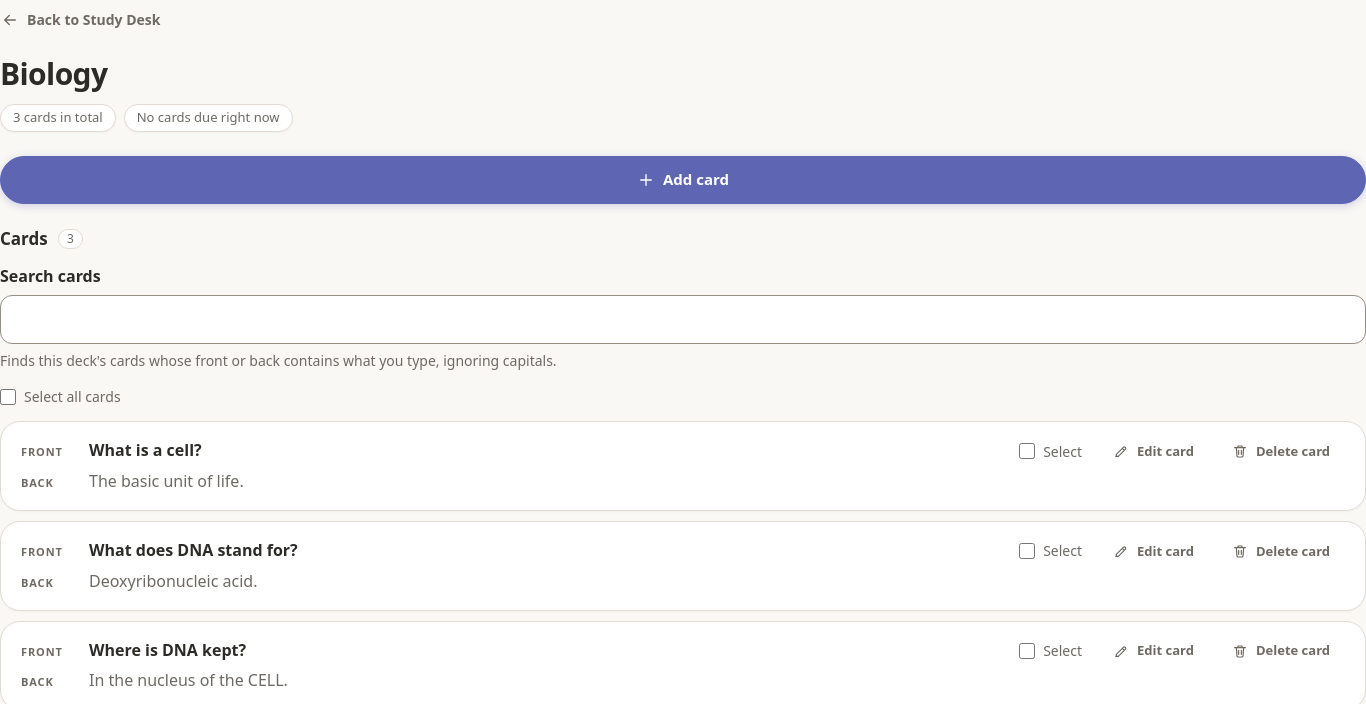
selecting cards › selects all the matching cards only, and says when the search hides some
The image size is (1366, 704).
Type "cell" into the search field labelled "Search cards" at (683, 320), box [0, 295, 1365, 344]
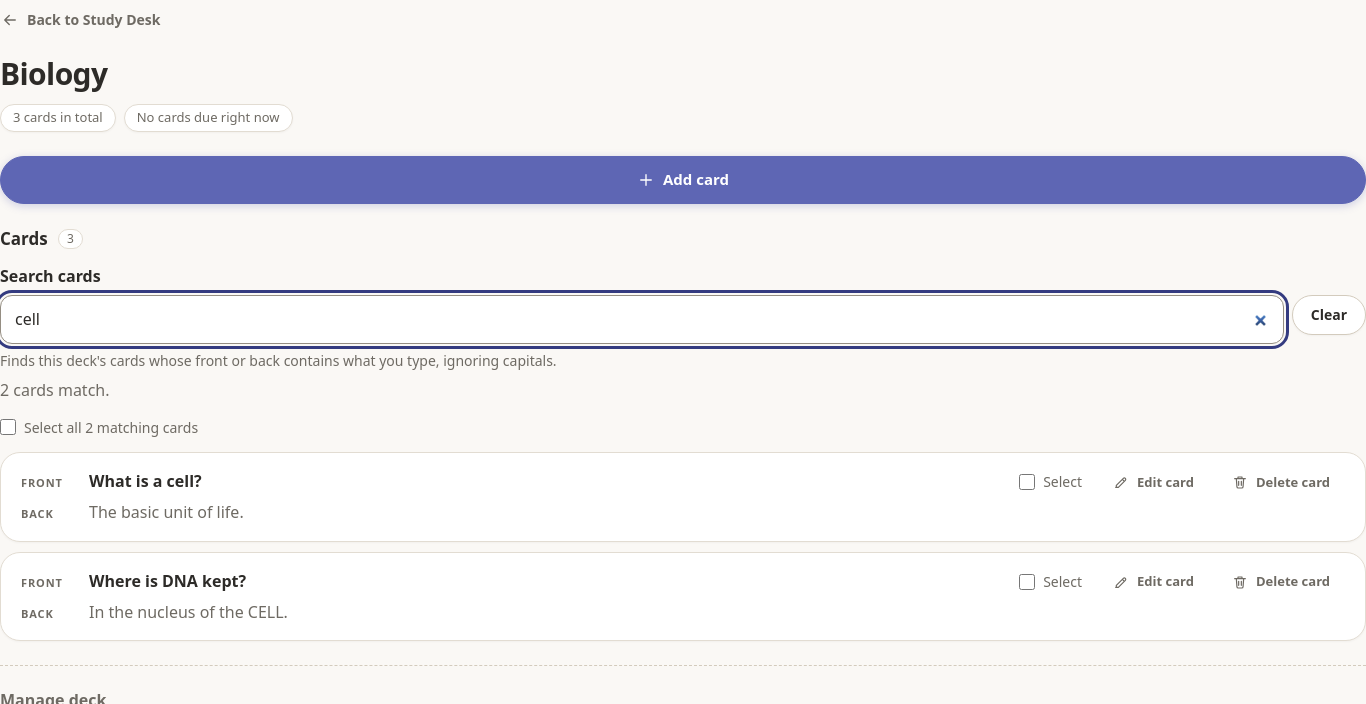
Click the checkbox labelled "Select all 2 matching cards" at (8, 427), box [0, 419, 16, 435]
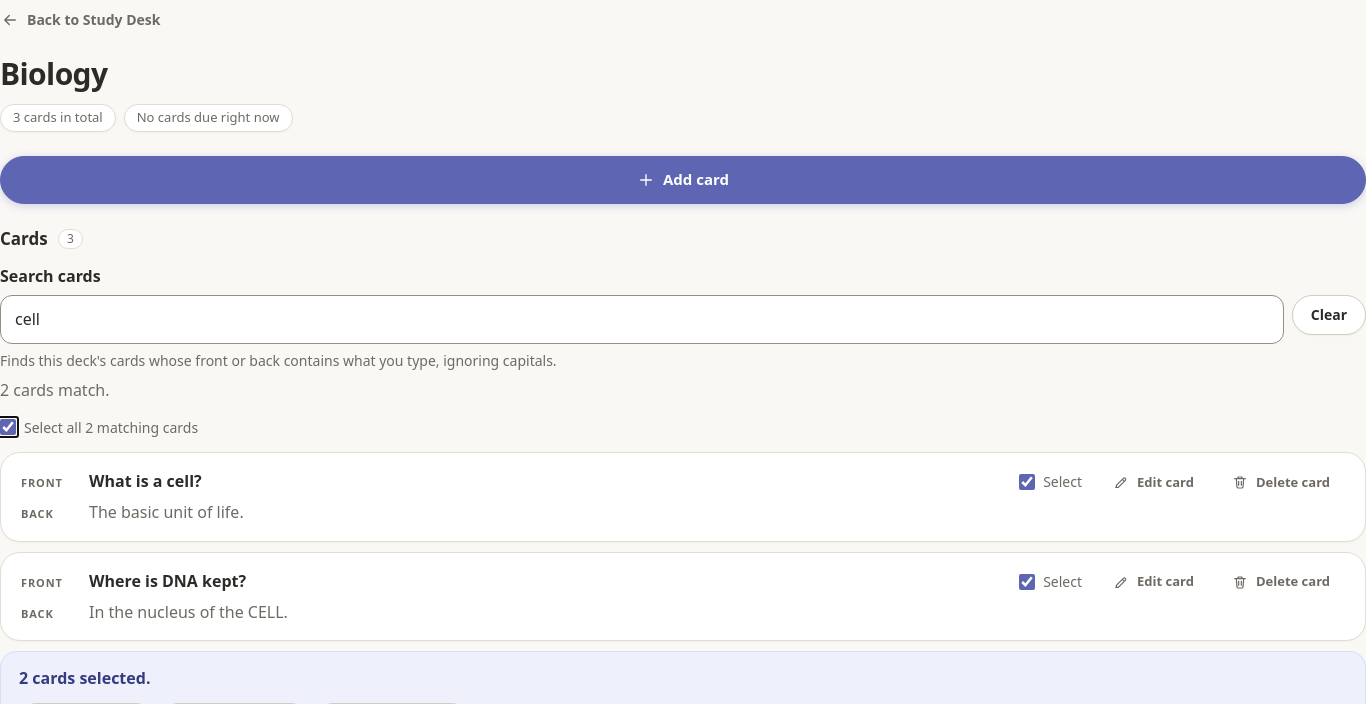
Expected: the text "2 cards selected." is shown, [19, 667, 150, 689]
Clear the search field labelled "Search cards" at (642, 320), box [0, 295, 1284, 344]
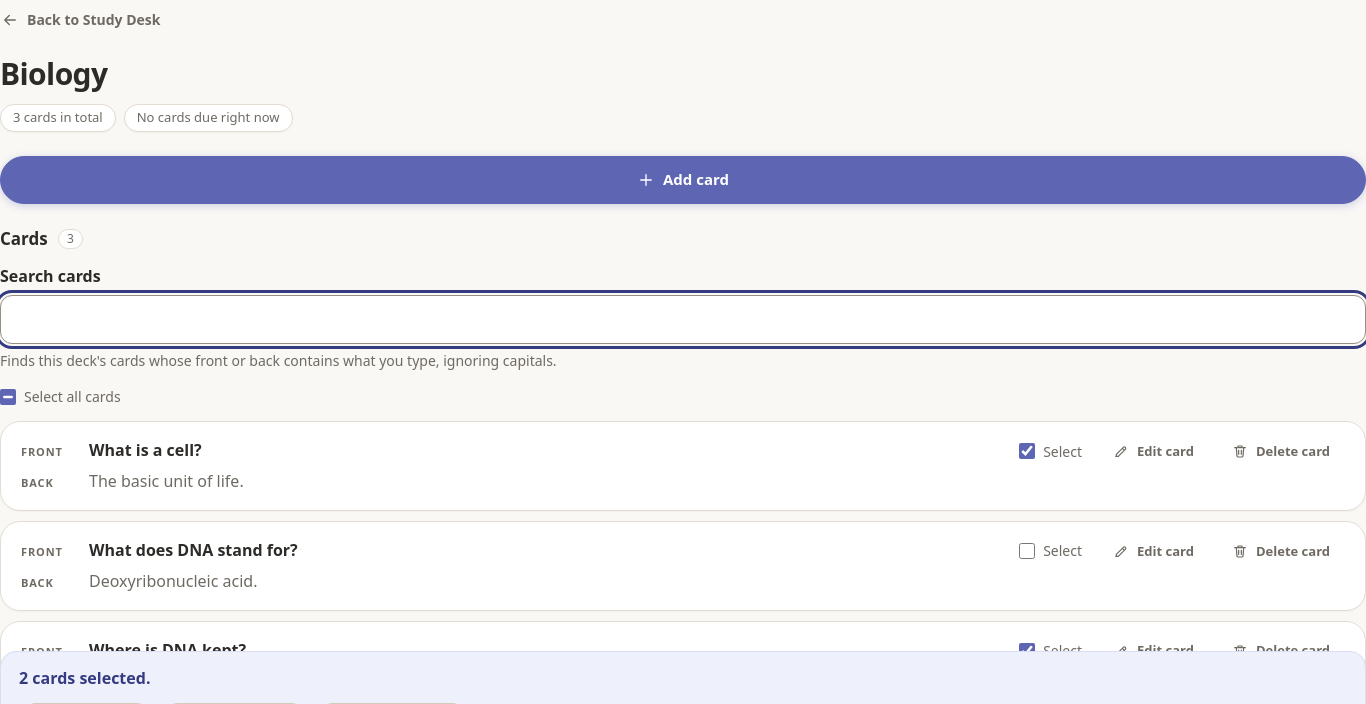
Type "acid" into the search field labelled "Search cards" at (683, 320), box [0, 295, 1365, 344]
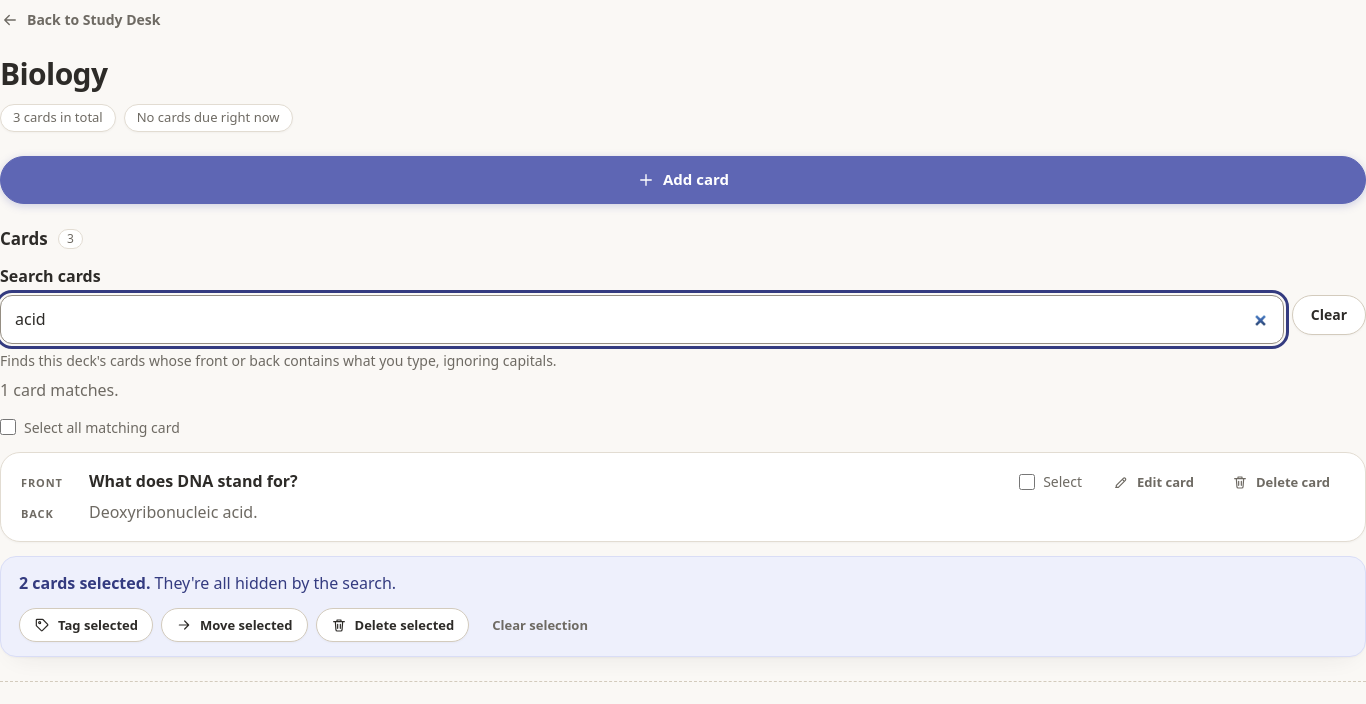
Expected: the text "2 cards selected. They're all hidden by the search." is shown, [19, 572, 396, 594]
Click the button "Clear selection" at (540, 625), box [477, 608, 603, 642]
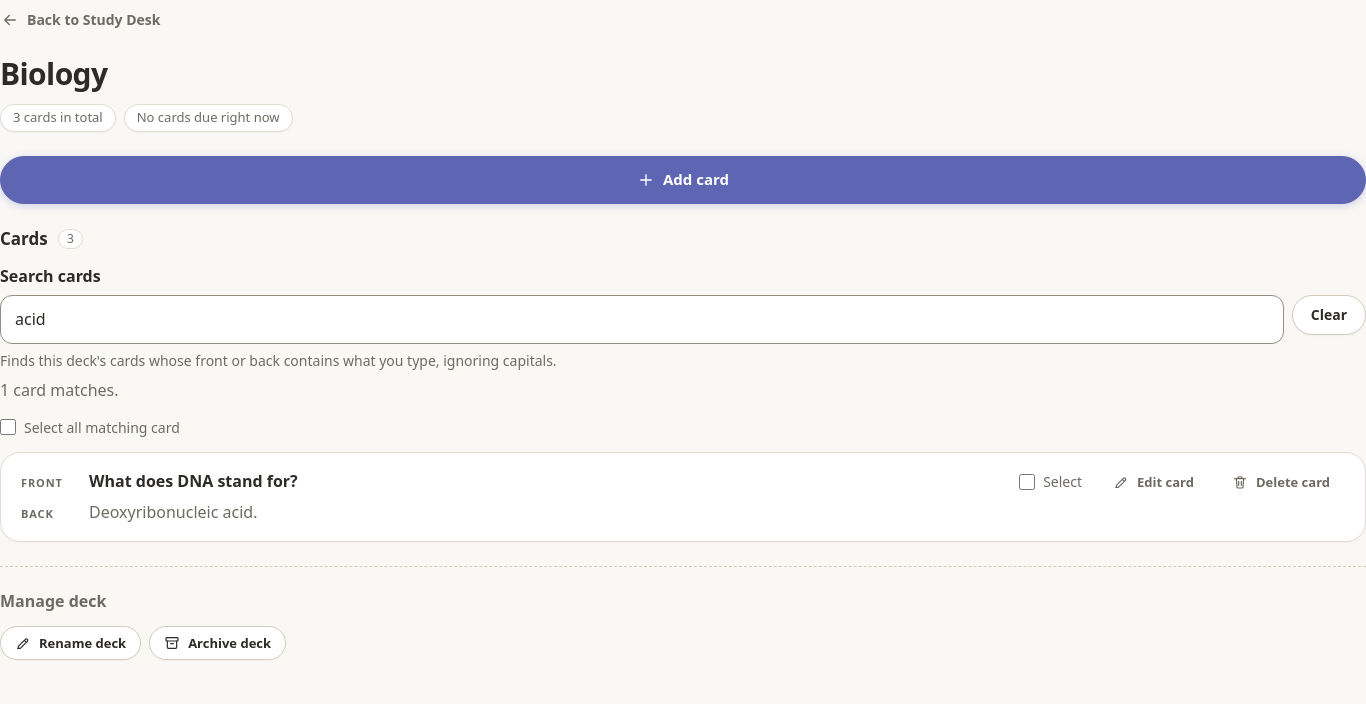
Expected: the text "selected." is gone
